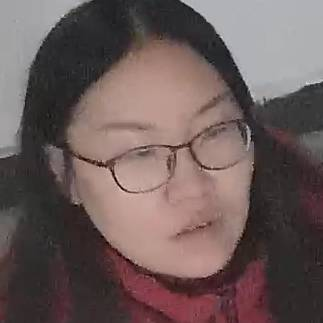xl: (42, 30, 299, 287)
